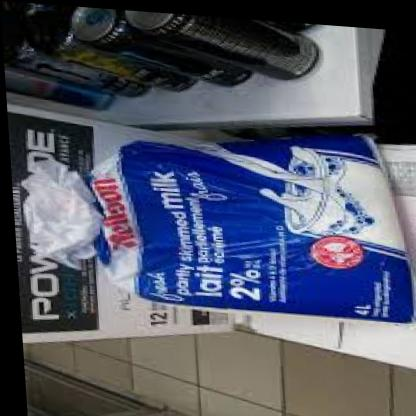Plastic: (16, 91, 416, 340)
